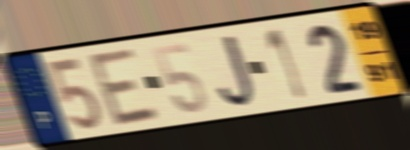1: (265, 25, 309, 102)
2: (304, 18, 368, 100)
5: (42, 53, 105, 132), (150, 40, 209, 116)
E: (85, 45, 164, 130)
J: (216, 32, 258, 111)
